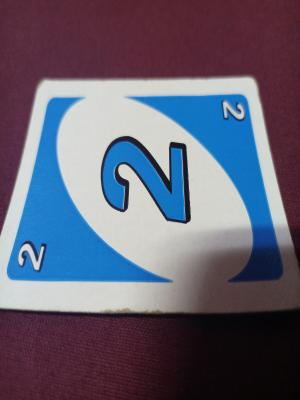blue: (38, 103, 261, 283)
num_2: (12, 234, 50, 280)
